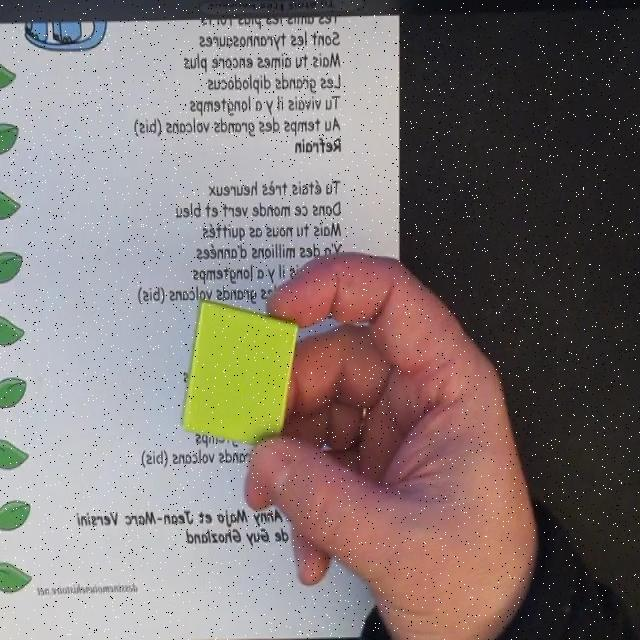square: (181, 300, 302, 452)
